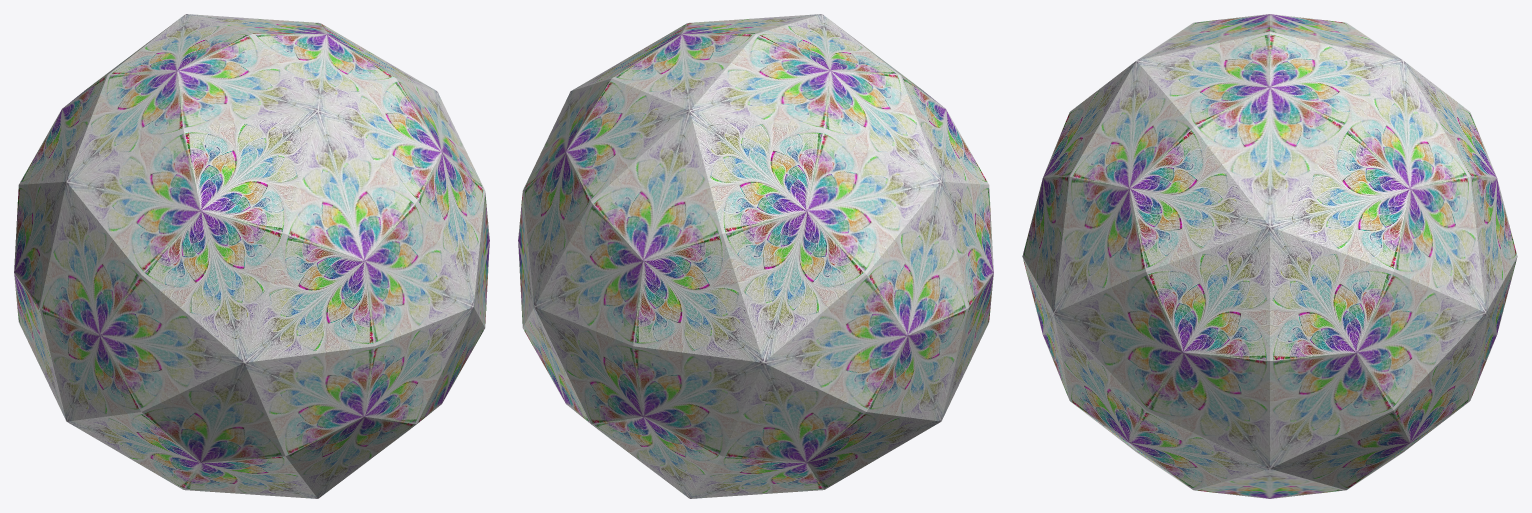
File: DeltoidalHexecontahedron8.obj
3 views of the same model, side by side, from view 1: azimuth 30°, elevation 25°; view 2: azimuth 150°, elevation 25°; view 3: azimuth 270°, elevation 25° (orthographic).
Size of the model in its own units: 4.47 by 4.47 by 4.47.
1 material, 1 textured.
